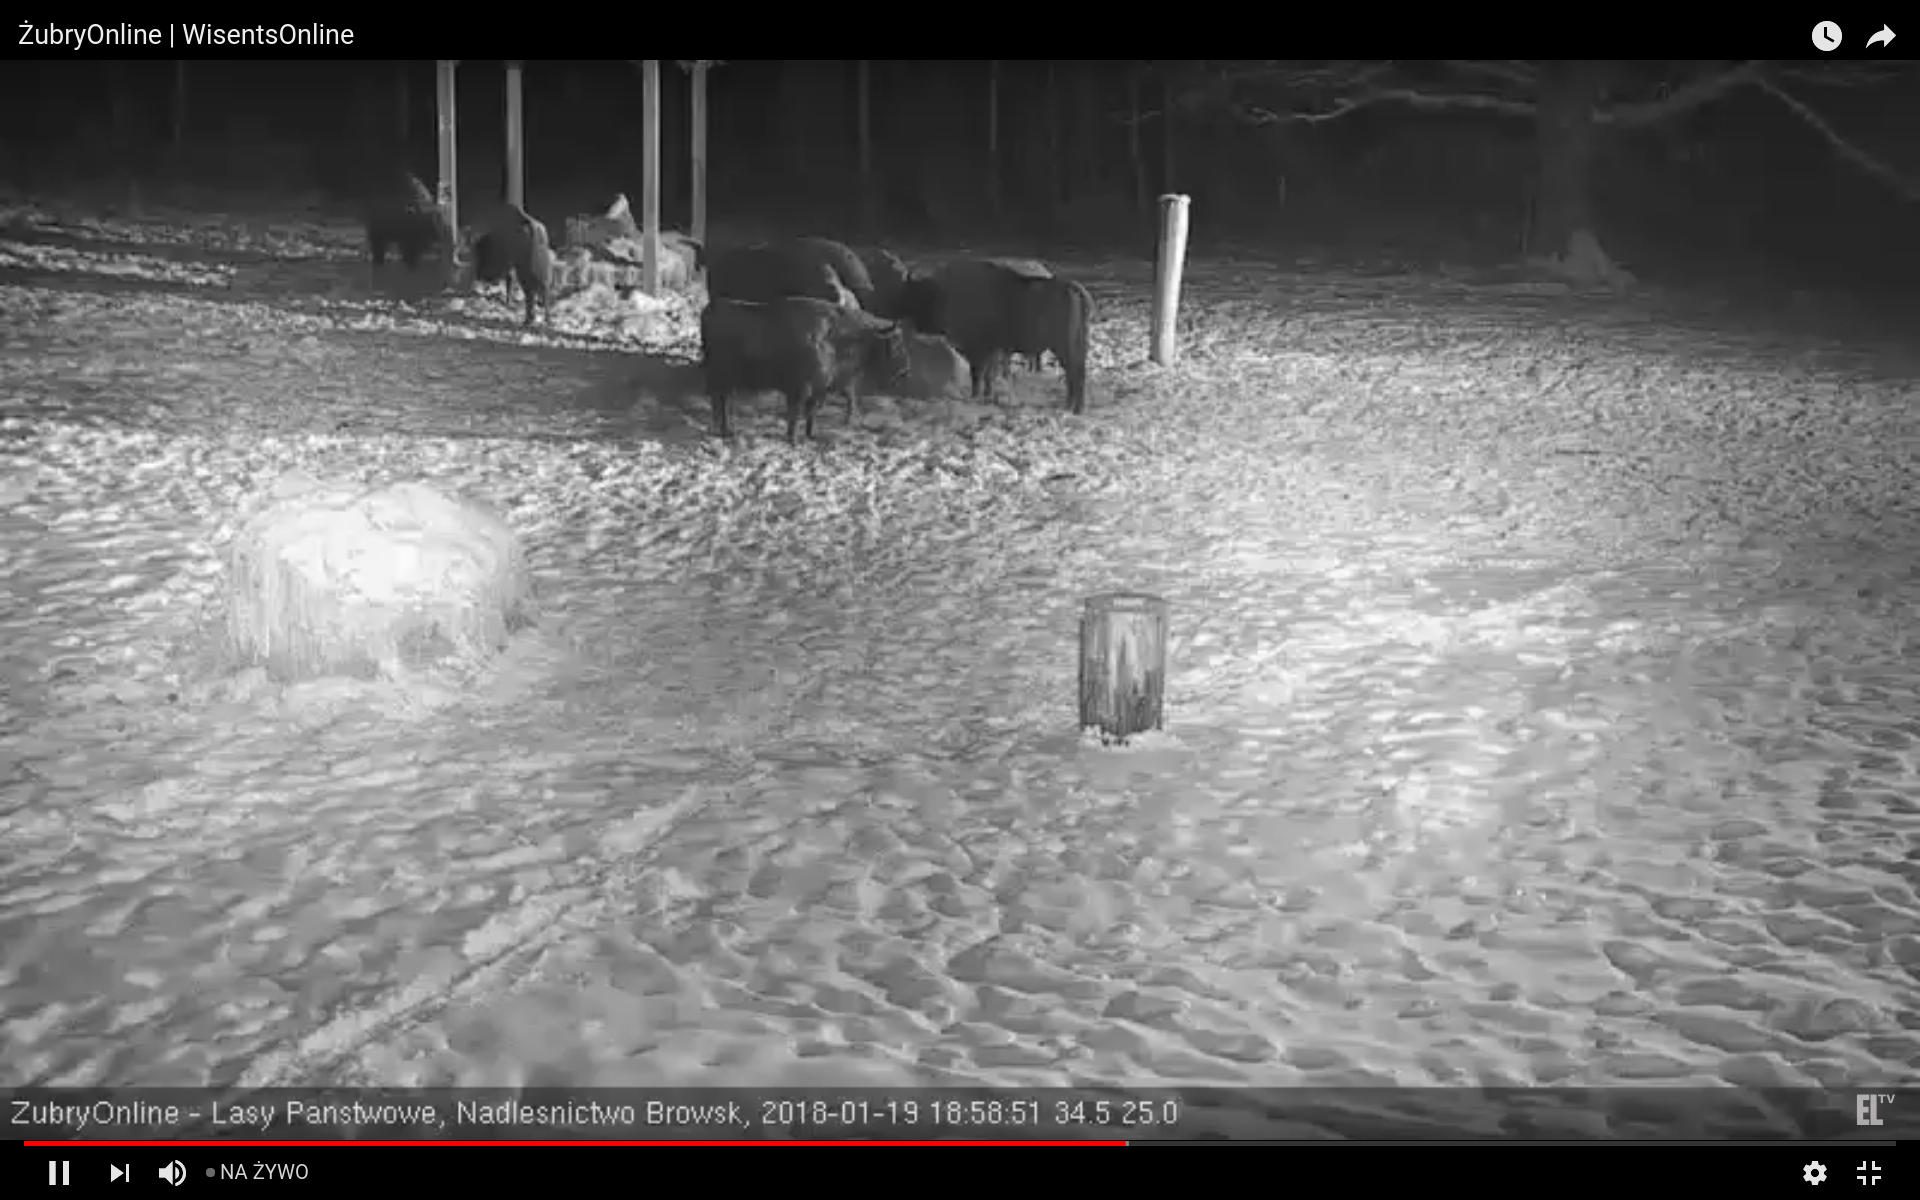zubr: (673, 281, 918, 437), (903, 247, 1103, 423), (355, 160, 463, 299), (466, 194, 558, 330)
